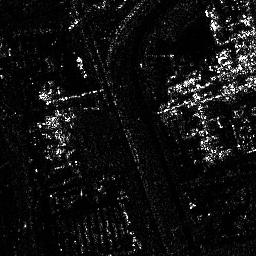ship: (70, 51, 89, 78)
